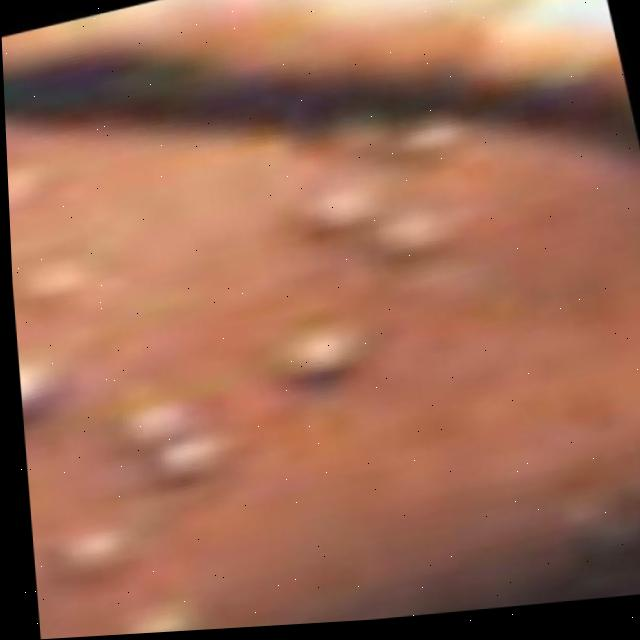Eczema: (5, 74, 640, 640)
